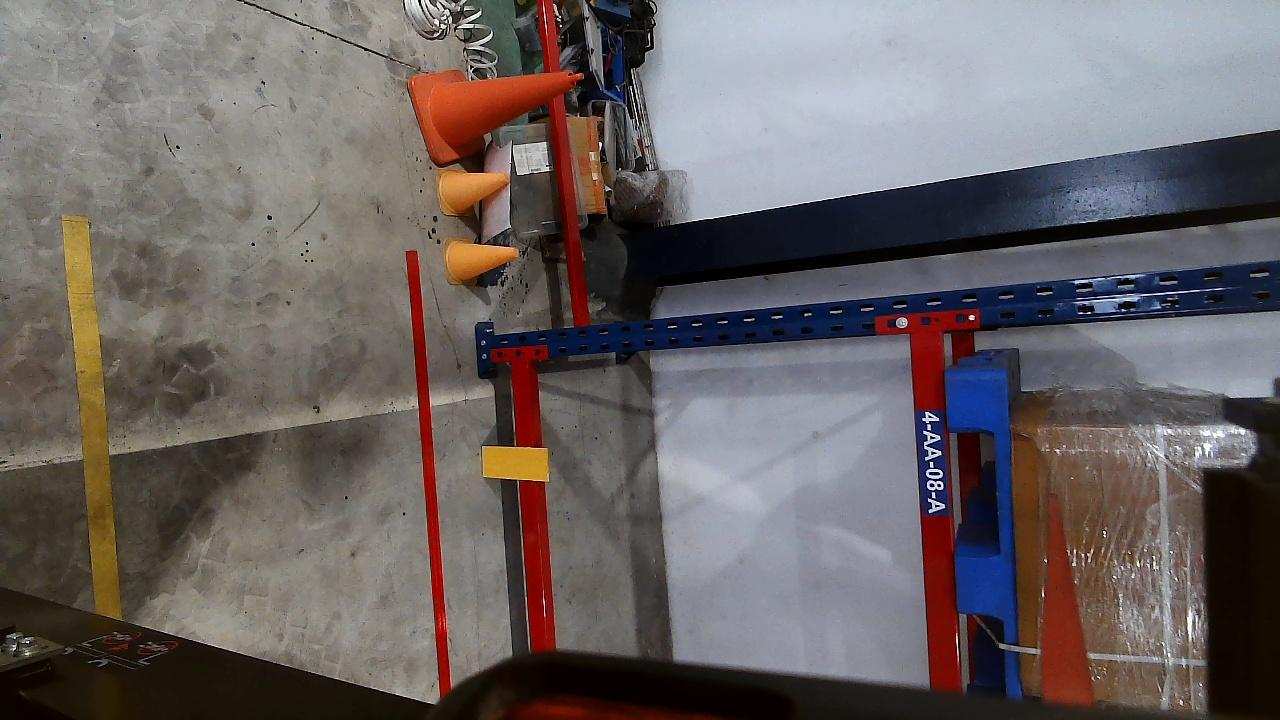h_rack: (908, 326, 963, 687), (507, 358, 554, 651)
orange_strip: (480, 446, 548, 480)
red_line: (407, 250, 452, 687)
small_pallet: (945, 364, 1013, 684)
yellow_line: (58, 214, 119, 617)
